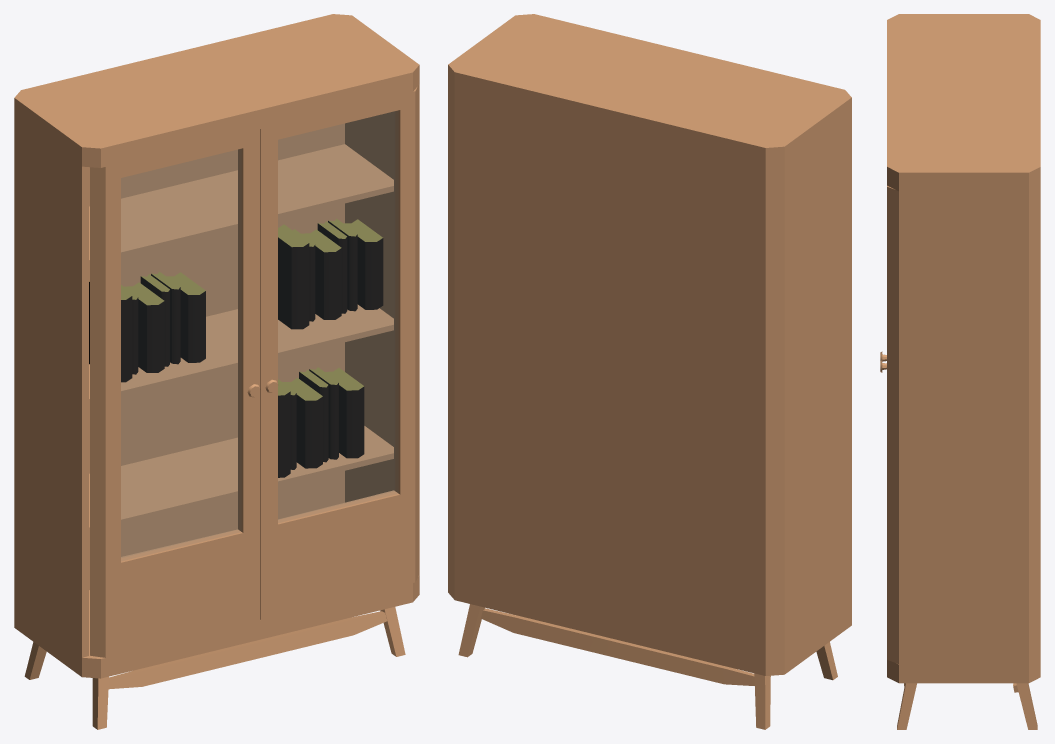
The model's file is Skaf_Book_type1.FBX.
3 renders of one model, left to right at view 1: azimuth 30°, elevation 25°; view 2: azimuth 150°, elevation 25°; view 3: azimuth 270°, elevation 25°, orthographic. The views are drawn at different scales.
Parts seen in each view (by area): view 1: Book_shelf_type01_01, Book_shelf_type1_01, Book_shelf_type1_038, Book_type1_006, Book_type3_003, Book_type3_004, Book_type3_005, Book_type6_005, Book_type6_004, Book_type6_003, Book_type1_005, Book_type1_004 (+6 smaller); view 2: Book_shelf_type01_01; view 3: Book_shelf_type01_01, Book_shelf_type1_038.
Part boxes in pixels (x1,y1,x2,y2): Book_shelf_type01_01: (14,14,419,729); Book_shelf_type1_01: (90,129,260,657); Book_shelf_type1_038: (260,85,418,619); Book_type1_006: (278,224,309,329); Book_type3_003: (124,282,164,372); Book_type3_004: (282,378,322,468); Book_type3_005: (301,229,341,319); Book_type6_005: (343,219,383,309); Book_type6_004: (325,368,364,458); Book_type6_003: (166,272,205,362); Book_type1_005: (278,382,290,477); Book_type1_004: (89,281,132,382); Book_shelf_type01_01: (448,14,851,729); Book_shelf_type01_01: (887,14,1040,729); Book_shelf_type1_038: (880,185,898,663).
Bounding box in the file's own units: 283 × 470 × 121.
